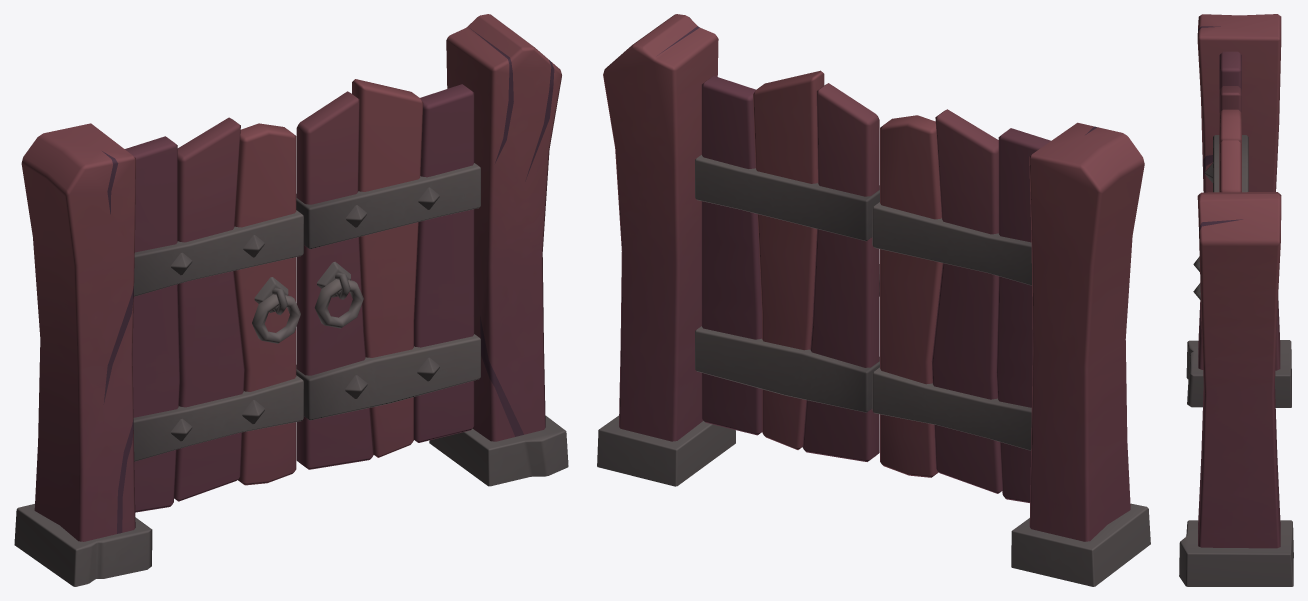
File: door7.glb
The picture shows the model from 3 angles, left to right: view 1: azimuth 30°, elevation 25°; view 2: azimuth 150°, elevation 25°; view 3: azimuth 270°, elevation 25°; orthographic projection. The views are drawn at different scales.
Parts seen in each view (by area): view 1: Wood.arch.019, Gate.04.R.001, Gate.04.L.001; view 2: Wood.arch.019, Gate.04.R.001, Gate.04.L.001; view 3: Wood.arch.019, Gate.04.L.001, Gate.04.R.001.
Boxes of the visible parts, bbox=[...] form: Wood.arch.019: bbox=[14, 14, 568, 586]; Gate.04.R.001: bbox=[296, 79, 480, 469]; Gate.04.L.001: bbox=[125, 117, 303, 512]; Wood.arch.019: bbox=[597, 14, 1150, 586]; Gate.04.R.001: bbox=[695, 70, 879, 461]; Gate.04.L.001: bbox=[872, 109, 1050, 502]; Wood.arch.019: bbox=[1179, 14, 1293, 586]; Gate.04.L.001: bbox=[1193, 51, 1248, 271]; Gate.04.R.001: bbox=[1193, 140, 1241, 299].
Size of the model in its own units: 4.04 by 3.28 by 0.9034.
1 material, 1 textured.
